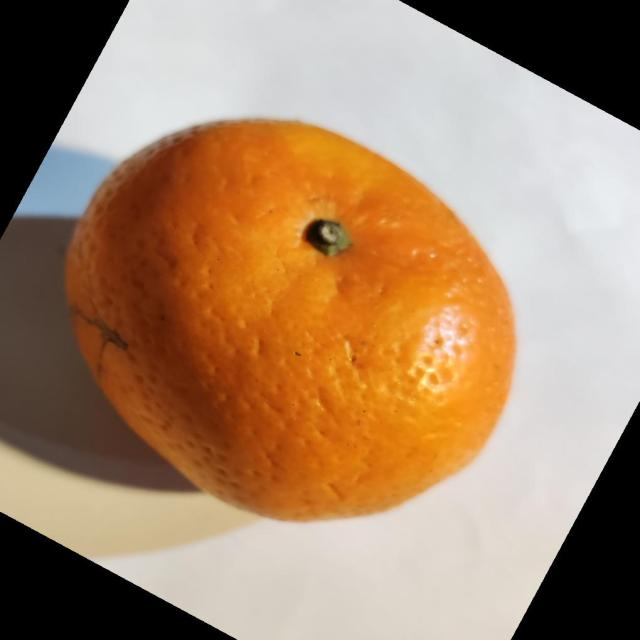fresh orange: (62, 116, 518, 523)
